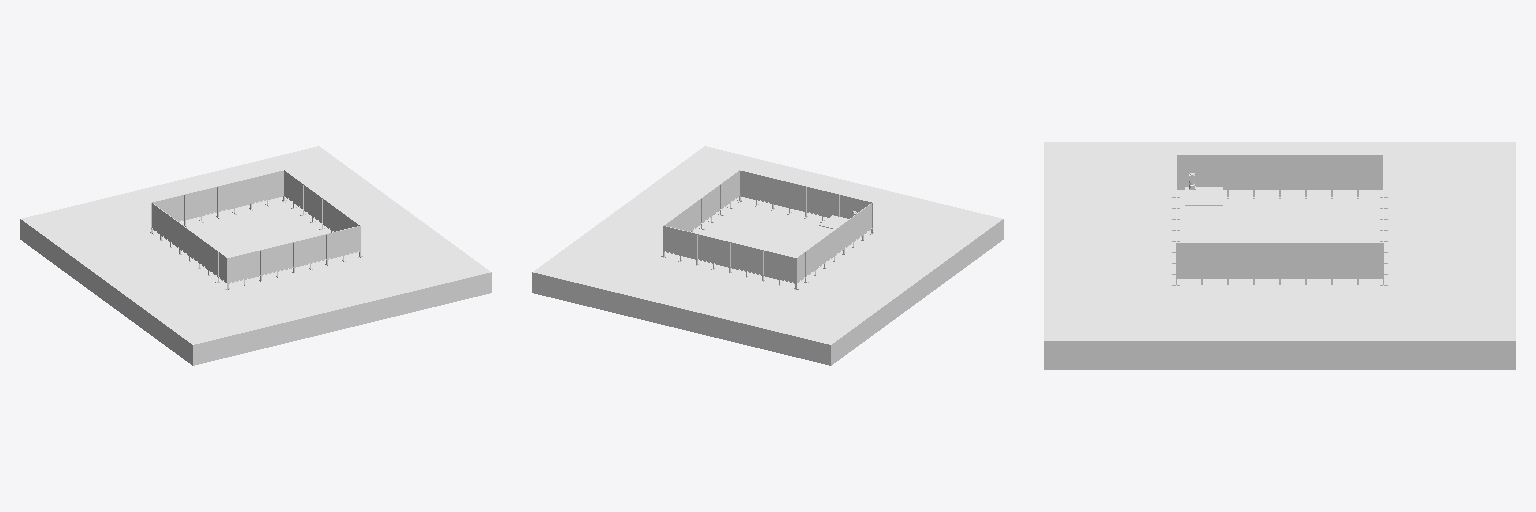
robot.urdf — rccn_east_robot:
<?xml version="1.0" ?>
<!-- =================================================================================== -->
<!-- |    This document was autogenerated by xacro from rccn_east_robot.xacro          | -->
<!-- |    EDITING THIS FILE BY HAND IS NOT RECOMMENDED                                 | -->
<!-- =================================================================================== -->
<robot name="rccn_east_robot">
  <link name="kuka_robot_cell_world">
    <visual>
      <geometry>
        <mesh filename="package://rccn_kuka_robot_cell/meshes/world/visual/robot_cell_fixture.stl"/>
      </geometry>
      <material name="">
        <color rgba="1.0 1.0 1.0 1.0"/>
      </material>
    </visual>
    <collision>
      <geometry>
        <mesh filename="package://rccn_kuka_robot_cell/meshes/world/collision/robot_cell_fixture.stl"/>
      </geometry>
    </collision>
  </link>
  <link name="east_e1_rail">
    <visual>
      <geometry>
        <mesh filename="package://rccn_kuka_robot_cell/meshes/rail/visual/east_rail.stl"/>
      </geometry>
      <material name="">
        <color rgba="1.0 1.0 1.0 1.0"/>
      </material>
    </visual>
    <collision>
      <geometry>
        <mesh filename="package://rccn_kuka_robot_cell/meshes/rail/collision/east_rail.stl"/>
      </geometry>
    </collision>
  </link>
  <joint name="east_joint_e1" type="prismatic">
    <parent link="east_e1_rail"/>
    <child link="east_e1_plate"/>
    <!-- Here we enter the joint position just defined before -->
    <origin rpy="0.00000000 0.00000000 0.00000000" xyz="0.00000000 0.00000000 0.00000000"/>
    <!-- Here we define the axis along which the geometry is moved -->
    <axis xyz="1 0 0"/>
    <!-- Here we define the joint's upper and lower limits -->
    <limit effort="1000.0" lower="0.0" upper="4.266" velocity="0.25"/>
  </joint>
  <link name="east_e1_plate">
    <visual>
      <geometry>
        <mesh filename="package://rccn_kuka_robot_cell/meshes/rail/visual/east_plate.stl"/>
      </geometry>
      <material name="">
        <color rgba="1.0 1.0 1.0 1.0"/>
      </material>
    </visual>
    <collision>
      <geometry>
        <mesh filename="package://rccn_kuka_robot_cell/meshes/rail/collision/east_plate.stl"/>
      </geometry>
    </collision>
  </link>
  <joint name="east_attachment_joint" type="fixed">
    <parent link="east_e1_plate"/>
    <child link="east_base_link"/>
    <origin rpy="-0.00000002 -0.00012841 0.00024798" xyz="-0.00206000 -0.00032000 -0.00000000"/>
  </joint>
  <!-- LINKS -->
  <!-- base link -->
  <link name="east_base_link">
    <inertial>
      <origin rpy="0 0 0" xyz="0 0 0"/>
      <mass value="2"/>
      <inertia ixx="0.01" ixy="0" ixz="0" iyy="0.01" iyz="0" izz="0.01"/>
    </inertial>
    <visual>
      <origin rpy="0 0 0" xyz="0 0 0"/>
      <geometry>
        <mesh filename="package://kuka_kr300_support/meshes/kr300r2500ultra/visual/base_link.stl"/>
      </geometry>
      <material name="">
        <color rgba="1.0 1.0 1.0 1.0"/>
      </material>
    </visual>
    <collision>
      <origin rpy="0 0 0" xyz="0 0 0"/>
      <geometry>
        <mesh filename="package://kuka_kr300_support/meshes/kr300r2500ultra/collision/base_link.stl" scale="0.001 0.001 0.001"/>
      </geometry>
    </collision>
  </link>
  <!-- link 1 (A1) -->
  <link name="east_link_1">
    <inertial>
      <origin rpy="0 0 0" xyz="0 0 0"/>
      <mass value="2"/>
      <inertia ixx="0.01" ixy="0" ixz="0" iyy="0.01" iyz="0" izz="0.01"/>
    </inertial>
    <visual>
      <origin rpy="0 0 0" xyz="0 0 0"/>
      <geometry>
        <mesh filename="package://kuka_kr300_support/meshes/kr300r2500ultra/visual/link_1.stl"/>
      </geometry>
      <material name="">
        <color rgba="1.0 1.0 1.0 1.0"/>
      </material>
    </visual>
    <collision>
      <origin rpy="0 0 0" xyz="0 0 0"/>
      <geometry>
        <mesh filename="package://kuka_kr300_support/meshes/kr300r2500ultra/collision/link_1.stl" scale="0.001 0.001 0.001"/>
      </geometry>
    </collision>
  </link>
  <!-- link 2 -->
  <link name="east_link_2">
    <inertial>
      <origin rpy="0 0 0" xyz="0 0 0"/>
      <mass value="2"/>
      <inertia ixx="0.01" ixy="0" ixz="0" iyy="0.01" iyz="0" izz="0.01"/>
    </inertial>
    <visual>
      <origin rpy="0 0 0" xyz="0 0 0"/>
      <geometry>
        <mesh filename="package://kuka_kr300_support/meshes/kr300r2500ultra/visual/link_2.stl"/>
      </geometry>
      <material name="">
        <color rgba="1.0 1.0 1.0 1.0"/>
      </material>
    </visual>
    <collision>
      <origin rpy="0 0 0" xyz="0 0 0"/>
      <geometry>
        <mesh filename="package://kuka_kr300_support/meshes/kr300r2500ultra/collision/link_2.stl" scale="0.001 0.001 0.001"/>
      </geometry>
    </collision>
  </link>
  <!-- link 3 -->
  <link name="east_link_3">
    <inertial>
      <origin rpy="0 0 0" xyz="0 0 0"/>
      <mass value="2"/>
      <inertia ixx="0.01" ixy="0" ixz="0" iyy="0.01" iyz="0" izz="0.01"/>
    </inertial>
    <visual>
      <origin rpy="0 0 0" xyz="0 0 0"/>
      <geometry>
        <mesh filename="package://kuka_kr300_support/meshes/kr300r2500ultra/visual/link_3.stl"/>
      </geometry>
      <material name="">
        <color rgba="1.0 1.0 1.0 1.0"/>
      </material>
    </visual>
    <collision>
      <origin rpy="0 0 0" xyz="0 0 0"/>
      <geometry>
        <mesh filename="package://kuka_kr300_support/meshes/kr300r2500ultra/collision/link_3.stl" scale="0.001 0.001 0.001"/>
      </geometry>
    </collision>
  </link>
  <!-- link 4 -->
  <link name="east_link_4">
    <inertial>
      <origin rpy="0 0 0" xyz="0 0 0"/>
      <mass value="2"/>
      <inertia ixx="0.01" ixy="0" ixz="0" iyy="0.01" iyz="0" izz="0.01"/>
    </inertial>
    <visual>
      <origin rpy="0 0 0" xyz="0 0 0"/>
      <geometry>
        <mesh filename="package://kuka_kr300_support/meshes/kr300r2500ultra/visual/link_4.stl"/>
      </geometry>
      <material name="">
        <color rgba="1.0 1.0 1.0 1.0"/>
      </material>
    </visual>
    <collision>
      <origin rpy="0 0 0" xyz="0 0 0"/>
      <geometry>
        <mesh filename="package://kuka_kr300_support/meshes/kr300r2500ultra/collision/link_4.stl" scale="0.001 0.001 0.001"/>
      </geometry>
    </collision>
  </link>
  <!-- link 5 -->
  <link name="east_link_5">
    <inertial>
      <origin rpy="0 0 0" xyz="0 0 0"/>
      <mass value="2"/>
      <inertia ixx="0.01" ixy="0" ixz="0" iyy="0.01" iyz="0" izz="0.01"/>
    </inertial>
    <visual>
      <origin rpy="0 0 0" xyz="0 0 0"/>
      <geometry>
        <mesh filename="package://kuka_kr300_support/meshes/kr300r2500ultra/visual/link_5.stl"/>
      </geometry>
      <material name="">
        <color rgba="1.0 1.0 1.0 1.0"/>
      </material>
    </visual>
    <collision>
      <origin rpy="0 0 0" xyz="0 0 0"/>
      <geometry>
        <mesh filename="package://kuka_kr300_support/meshes/kr300r2500ultra/collision/link_5.stl" scale="0.001 0.001 0.001"/>
      </geometry>
    </collision>
  </link>
  <!-- link 6 -->
  <link name="east_link_6">
    <inertial>
      <origin rpy="0 0 0" xyz="0 0 0"/>
      <mass value="2"/>
      <inertia ixx="0.01" ixy="0" ixz="0" iyy="0.01" iyz="0" izz="0.01"/>
    </inertial>
    <visual>
      <origin rpy="0 0 0" xyz="0 0 0"/>
      <geometry>
        <mesh filename="package://kuka_kr300_support/meshes/kr300r2500ultra/visual/link_6.stl"/>
      </geometry>
      <material name="">
        <color rgba="1.0 1.0 1.0 1.0"/>
      </material>
    </visual>
    <collision>
      <origin rpy="0 0 0" xyz="0 0 0"/>
      <geometry>
        <mesh filename="package://kuka_kr300_support/meshes/kr300r2500ultra/collision/link_6.stl" scale="0.001 0.001 0.001"/>
      </geometry>
    </collision>
  </link>
  <!-- tool 0 -->
  <!-- This frame corresponds to the $FLANGE coordinate system in KUKA KRC controllers. -->
  <link name="east_tool0"/>
  <!-- END LINKS -->
  <!-- JOINTS -->
  <!-- joint 1 (A1) -->
  <joint name="east_joint_a1" type="revolute">
    <origin rpy="0 0 0" xyz="0 0 0.675"/>
    <parent link="east_base_link"/>
    <child link="east_link_1"/>
    <axis xyz="0 0 -1"/>
    <limit effort="0" lower="-3.2288591161895095" upper="3.2288591161895095" velocity="2.722713633111154"/>
  </joint>
  <!-- joint 2 (A2) -->
  <joint name="east_joint_a2" type="revolute">
    <origin rpy="0 0 0" xyz="0.35 0 0"/>
    <parent link="east_link_1"/>
    <child link="east_link_2"/>
    <axis xyz="0 1 0"/>
    <limit effort="0" lower="-2.705260340591211" upper="0.6108652381980153" velocity="2.722713633111154"/>
  </joint>
  <!-- joint 3 (A3) -->
  <joint name="east_joint_a3" type="revolute">
    <origin rpy="0 0 0" xyz="1.150 0 0"/>
    <parent link="east_link_2"/>
    <child link="east_link_3"/>
    <axis xyz="0 1 0"/>
    <limit effort="0" lower="-2.2689280275926285" upper="2.6878070480712677" velocity="2.722713633111154"/>
  </joint>
  <!-- joint 4 (A4) -->
  <joint name="east_joint_a4" type="revolute">
    <origin rpy="0 0 0" xyz="1.0 0 -0.041"/>
    <parent link="east_link_3"/>
    <child link="east_link_4"/>
    <axis xyz="-1 0 0"/>
    <limit effort="0" lower="-6.1086523819801535" upper="6.1086523819801535" velocity="5.759586531581287"/>
  </joint>
  <!-- joint 5 (A5) -->
  <joint name="east_joint_a5" type="revolute">
    <origin rpy="0 0 0" xyz="0 0 0"/>
    <parent link="east_link_4"/>
    <child link="east_link_5"/>
    <axis xyz="0 1 0"/>
    <limit effort="0" lower="-2.2689280275926285" upper="2.2689280275926285" velocity="5.759586531581287"/>
  </joint>
  <!-- joint 6 (A6) -->
  <joint name="east_joint_a6" type="revolute">
    <origin rpy="0 0 0" xyz="0 0 0"/>
    <parent link="east_link_5"/>
    <child link="east_link_6"/>
    <axis xyz="-1 0 0"/>
    <limit effort="0" lower="-6.1086523819801535" upper="6.1086523819801535" velocity="10.733774899765127"/>
  </joint>
  <!-- tool frame - fixed frame -->
  <joint name="east_joint_a6-tool0" type="fixed">
    <parent link="east_link_6"/>
    <child link="east_tool0"/>
    <origin rpy="0 1.5707963267948966 0" xyz="0.240 0 0"/>
  </joint>
  <!-- END JOINTS -->
  <!-- ROS base_link to KUKA $ROBROOT coordinate system transform -->
  <link name="east_base"/>
  <joint name="east_base_link-base" type="fixed">
    <origin rpy="0 0 0" xyz="0 0 0"/>
    <parent link="east_base_link"/>
    <child link="east_base"/>
  </joint>
  <joint name="east_world_joint" type="fixed">
    <parent link="kuka_robot_cell_world"/>
    <child link="east_e1_rail"/>
    <origin rpy="0.00000000 0.00000000 0.00000000" xyz="0.00000000 -2.40000000 0.00000000"/>
  </joint>
</robot>

--- Facts derived from the render (not from the file) ---
3 views of the same robot in one strip: view 1: azimuth 30°, elevation 25°; view 2: azimuth 150°, elevation 25°; view 3: azimuth 270°, elevation 25° (orthographic).
Model rccn_east_robot with 12 links and 11 joints (6 revolute, 1 prismatic, 4 fixed), rooted at kuka_robot_cell_world, posed all joints at 0.
Visible links, largest first — view 1: kuka_robot_cell_world; view 2: kuka_robot_cell_world; view 3: kuka_robot_cell_world, east_e1_plate.
Link boxes in pixels (x1,y1,x2,y2): kuka_robot_cell_world: (20,146,491,365); kuka_robot_cell_world: (532,146,1003,365); kuka_robot_cell_world: (1044,142,1515,369); east_e1_plate: (1185,173,1222,205).
Size in the robot's own frame: 15 by 15 by 2.51 metres.
2 mesh visuals loaded from 10 distinct referenced files (2 binary STL); not drawn: 8 (reference not matched to a file when rendering).